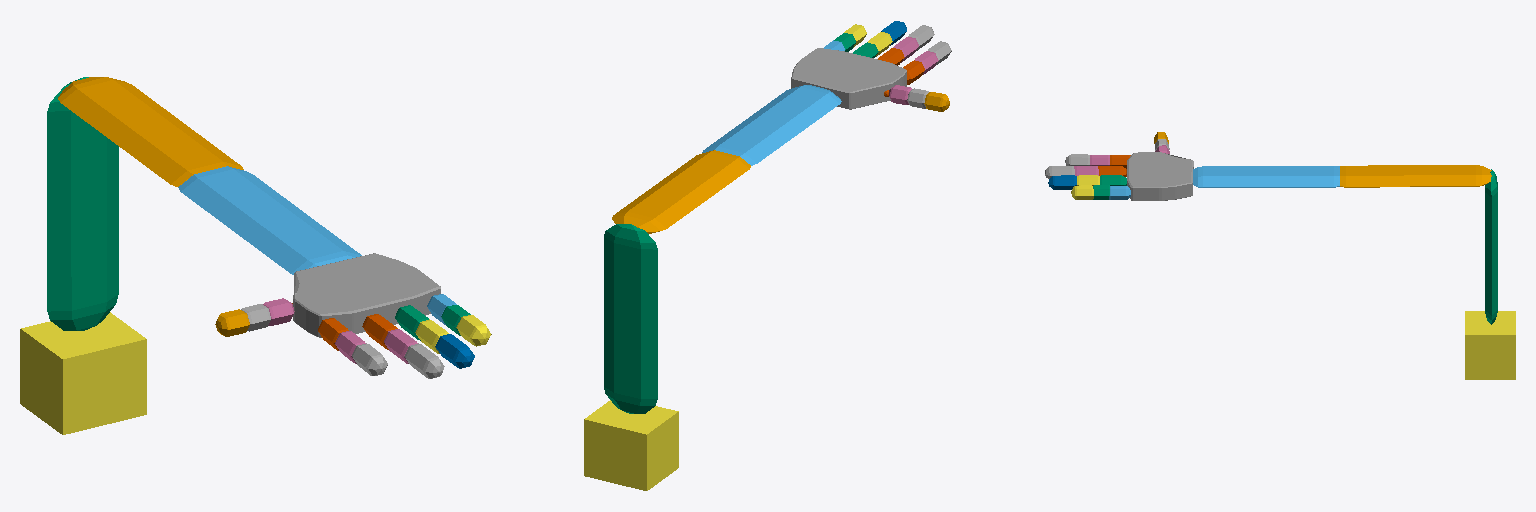
--- What the picture shows (computed from the rendered views, not written in the file) ---
The picture shows the robot from 3 angles, left to right: view 1: azimuth 30°, elevation 25°; view 2: azimuth 150°, elevation 25°; view 3: azimuth 270°, elevation 25°; orthographic projection.
Model hand with 25 links and 24 joints (24 revolute), rooted at base, posed every joint at zero.
Visible links, largest first — view 1: arm_base, base, arm0, arm1, palm, middle3, ring3, index3, little3, thumb3, middle1, middle2 (+4 smaller); view 2: arm_base, base, arm0, arm1, palm; view 3: base, arm0, arm1, palm, arm_base.
Boxes of the visible links, x1,y1,x2,y2 form: arm_base: (47,77,118,330); base: (20,312,146,434); arm0: (58,77,243,186); arm1: (178,166,361,274); palm: (293,253,440,337); middle3: (404,343,444,378); ring3: (435,334,474,368); index3: (352,343,387,375); little3: (456,315,491,346); thumb3: (215,309,249,336); middle1: (362,314,397,349); middle2: (384,329,417,363); arm_base: (604,224,657,413); base: (584,400,678,490); arm0: (612,150,750,233); arm1: (702,85,841,165); palm: (791,48,906,109); base: (1465,311,1515,379); arm0: (1340,165,1491,187); arm1: (1193,166,1339,187); palm: (1127,152,1193,200); arm_base: (1485,169,1497,324).
Size in the robot's own frame: 1.34 by 4.58 by 2.12 metres.
Meshes: 24 distinct files referenced, 24 mesh visuals loaded (24 OBJ).

The robot description file, URDF, robot "hand":
<?xml version="1.0"?>
<!-- created with Phobos 0.7 -->
  <robot name="hand">

    <link name="arm0">
      <inertial>
        <origin xyz="0.00575 0.0098 0.78821" rpy="0 0 0"/>
        <mass value="0.1"/>
        <inertia ixx="0.0872" ixy="0" ixz="0" iyy="0.001" iyz="0" izz="0.20686"/>
      </inertial>
      <visual name="visual_arm0">
        <origin xyz="0.00575 0.0098 0.78821" rpy="0 0 0"/>
        <geometry>
          <mesh filename="../meshes/obj/arm0_mesh.obj" scale="3.37757 1.0 5.67104"/>
        </geometry>
      </visual>
      <collision name="collision_arm0">
        <origin xyz="0.00575 0.0098 0.78334" rpy="0 0 0"/>
        <geometry>
          <mesh filename="../meshes/obj/arm0_mesh.obj" scale="1.0 1.0 1.60549"/>
        </geometry>
      </collision>
    </link>

    <link name="arm1">
      <inertial>
        <origin xyz="-0.00401 0.0098 0.68658" rpy="0 0 0"/>
        <mass value="0.1"/>
        <inertia ixx="0.0872" ixy="0" ixz="0" iyy="0.001" iyz="0" izz="0.20686"/>
      </inertial>
      <visual name="visual_arm1">
        <origin xyz="-0.00401 0.0098 0.68658" rpy="0 0 0"/>
        <geometry>
          <mesh filename="../meshes/obj/arm1_mesh.obj" scale="3.37757 1.0 5.67104"/>
        </geometry>
      </visual>
      <collision name="collision_arm1">
        <origin xyz="-0.00401 0.0098 0.68171" rpy="0 0 0"/>
        <geometry>
          <mesh filename="../meshes/obj/arm1_mesh.obj" scale="1.0 1.0 1.60549"/>
        </geometry>
      </collision>
    </link>

    <link name="arm_base">
      <inertial>
        <origin xyz="0.00575 0.0098 0.78821" rpy="0 0 0"/>
        <mass value="0.1"/>
        <inertia ixx="0.0872" ixy="0" ixz="0" iyy="0.001" iyz="0" izz="0.20686"/>
      </inertial>
      <visual name="visual_arm_base">
        <origin xyz="0.00575 0.0098 0.78821" rpy="0 0 0"/>
        <geometry>
          <mesh filename="../meshes/obj/arm_base_mesh.obj" scale="3.37757 1.0 5.67104"/>
        </geometry>
      </visual>
      <collision name="collision_arm_base">
        <origin xyz="0.00575 0.0098 0.78334" rpy="0 0 0"/>
        <geometry>
          <mesh filename="../meshes/obj/arm_base_mesh.obj" scale="1.0 1.0 1.60549"/>
        </geometry>
      </collision>
    </link>

    <link name="base">
      <inertial>
        <origin xyz="0.00137 0.00576 -0.00922" rpy="0 0 0"/>
        <mass value="0"/>
        <inertia ixx="0.0039" ixy="0" ixz="0" iyy="0.00453" iyz="0" izz="0.00457"/>
      </inertial>
      <visual name="base_visual">
        <origin xyz="0.00137 0.00576 -0.00922" rpy="0 0 0"/>
        <geometry>
          <box size="0.55837 0.48681 0.48115"/>
        </geometry>
      </visual>
      <collision name="base_collision">
        <origin xyz="0.00137 0.00576 -0.00922" rpy="0 0 0"/>
        <geometry>
          <mesh filename="../meshes/obj/base_mesh.obj" scale="1.0 1.0 1.0"/>
        </geometry>
      </collision>
    </link>

    <link name="index0">
      <inertial>
        <origin xyz="0 0.00067 0.00103" rpy="0 0 0"/>
        <mass value="0.1"/>
        <inertia ixx="0.03658" ixy="0" ixz="0" iyy="0.03658" iyz="0" izz="0.03658"/>
      </inertial>
      <visual name="visual_index0">
        <origin xyz="0 0.00067 0.00103" rpy="0 0 0"/>
        <geometry>
          <mesh filename="../meshes/obj/index0_mesh.obj" scale="1.0 1.0 1.0"/>
        </geometry>
      </visual>
      <collision name="collision_index0">
        <origin xyz="0 0.00067 0.00103" rpy="0 0 0"/>
        <geometry>
          <box size="0.0703 0.07139 0.07181"/>
        </geometry>
      </collision>
    </link>

    <link name="index1">
      <inertial>
        <origin xyz="0.00139 0 0.14195" rpy="0 0 0"/>
        <mass value="0.1"/>
        <inertia ixx="0.08761" ixy="0" ixz="0" iyy="0.08761" iyz="0" izz="0.03354"/>
      </inertial>
      <visual name="visual_index1">
        <origin xyz="0.00139 0 0.14195" rpy="0 0 0"/>
        <geometry>
          <mesh filename="../meshes/obj/index1_mesh.obj" scale="1.0 1.0 1.0"/>
        </geometry>
      </visual>
      <collision name="collision_index1">
        <origin xyz="0.00139 0 0.14195" rpy="0 0 0"/>
        <geometry>
          <box size="0.14118 0.12254 0.28672"/>
        </geometry>
      </collision>
    </link>

    <link name="index2">
      <inertial>
        <origin xyz="0.00032 0 0.09946" rpy="0 0 0"/>
        <mass value="0.1"/>
        <inertia ixx="0.08761" ixy="0" ixz="0" iyy="0.08761" iyz="0" izz="0.03354"/>
      </inertial>
      <visual name="visual_index2">
        <origin xyz="0.00032 0 0.09946" rpy="0 0 0"/>
        <geometry>
          <mesh filename="../meshes/obj/index2_mesh.obj" scale="1.0 1.0 1.0"/>
        </geometry>
      </visual>
      <collision name="collision_index2">
        <origin xyz="0.00032 0 0.09946" rpy="0 0 0"/>
        <geometry>
          <box size="0.14118 0.12254 0.27643"/>
        </geometry>
      </collision>
    </link>

    <link name="index3">
      <inertial>
        <origin xyz="0.00115 0 0.10044" rpy="0 0 0"/>
        <mass value="0.1"/>
        <inertia ixx="0.08761" ixy="0" ixz="0" iyy="0.08761" iyz="0" izz="0.03354"/>
      </inertial>
      <visual name="visual_index3">
        <origin xyz="0.00115 0 0.10044" rpy="0 0 0"/>
        <geometry>
          <mesh filename="../meshes/obj/index3_mesh.obj" scale="1.0 1.0 1.0"/>
        </geometry>
      </visual>
      <collision name="collision_index3">
        <origin xyz="0.00115 0 0.10044" rpy="0 0 0"/>
        <geometry>
          <box size="0.14118 0.12254 0.28086"/>
        </geometry>
      </collision>
    </link>

    <link name="little0">
      <inertial>
        <origin xyz="0 0.00231 -0.00092" rpy="0 0 0"/>
        <mass value="0.1"/>
        <inertia ixx="0.03658" ixy="0" ixz="0" iyy="0.03658" iyz="0" izz="0.03658"/>
      </inertial>
      <visual name="visual_little0">
        <origin xyz="0 0.00231 -0.00092" rpy="0 0 0"/>
        <geometry>
          <mesh filename="../meshes/obj/little0_mesh.obj" scale="1.0 1.0 1.0"/>
        </geometry>
      </visual>
      <collision name="collision_little0">
        <origin xyz="0 0.00231 -0.00092" rpy="0 0 0"/>
        <geometry>
          <box size="0.07071 0.07112 0.07181"/>
        </geometry>
      </collision>
    </link>

    <link name="little1">
      <inertial>
        <origin xyz="0.00056 0 0.12158" rpy="0 0 0"/>
        <mass value="0.1"/>
        <inertia ixx="0.08761" ixy="0" ixz="0" iyy="0.08761" iyz="0" izz="0.03354"/>
      </inertial>
      <visual name="visual_little1">
        <origin xyz="0.00056 0 0.12158" rpy="0 0 0"/>
        <geometry>
          <mesh filename="../meshes/obj/little1_mesh.obj" scale="1.0 1.0 1.0"/>
        </geometry>
      </visual>
      <collision name="collision_little1">
        <origin xyz="0.00056 0 0.12158" rpy="0 0 0"/>
        <geometry>
          <box size="0.1411 0.1246 0.26256"/>
        </geometry>
      </collision>
    </link>

    <link name="little2">
      <inertial>
        <origin xyz="-0.0035 0 0.07948" rpy="0 0 0"/>
        <mass value="0.1"/>
        <inertia ixx="0.08761" ixy="0" ixz="0" iyy="0.08761" iyz="0" izz="0.03354"/>
      </inertial>
      <visual name="visual_little2">
        <origin xyz="-0.0035 0 0.07948" rpy="0 0 0"/>
        <geometry>
          <mesh filename="../meshes/obj/little2_mesh.obj" scale="1.0 1.0 1.0"/>
        </geometry>
      </visual>
      <collision name="collision_little2">
        <origin xyz="-0.0035 0 0.07948" rpy="0 0 0"/>
        <geometry>
          <box size="0.1411 0.1246 0.25314"/>
        </geometry>
      </collision>
    </link>

    <link name="little3">
      <inertial>
        <origin xyz="-0.0029 0 0.10009" rpy="0 0 0"/>
        <mass value="0.1"/>
        <inertia ixx="0.08761" ixy="0" ixz="0" iyy="0.08761" iyz="0" izz="0.03354"/>
      </inertial>
      <visual name="visual_little3">
        <origin xyz="-0.0029 0 0.10009" rpy="0 0 0"/>
        <geometry>
          <mesh filename="../meshes/obj/little3_mesh.obj" scale="1.0 1.0 1.0"/>
        </geometry>
      </visual>
      <collision name="collision_little3">
        <origin xyz="-0.0029 0 0.10009" rpy="0 0 0"/>
        <geometry>
          <box size="0.1411 0.1246 0.2572"/>
        </geometry>
      </collision>
    </link>

    <link name="middle0">
      <inertial>
        <origin xyz="0 0.00229 1e-05" rpy="0 0 0"/>
        <mass value="0.1"/>
        <inertia ixx="0.03658" ixy="0" ixz="0" iyy="0.03658" iyz="0" izz="0.03658"/>
      </inertial>
      <visual name="visual_middle0">
        <origin xyz="0 0.00229 1e-05" rpy="0 0 0"/>
        <geometry>
          <mesh filename="../meshes/obj/middle0_mesh.obj" scale="1.0 1.0 1.0"/>
        </geometry>
      </visual>
      <collision name="collision_middle0">
        <origin xyz="0 0.00229 1e-05" rpy="0 0 0"/>
        <geometry>
          <box size="0.06979 0.0716 0.07181"/>
        </geometry>
      </collision>
    </link>

    <link name="middle1">
      <inertial>
        <origin xyz="0.00355 0 0.18008" rpy="0 0 0"/>
        <mass value="0.1"/>
        <inertia ixx="0.08761" ixy="0" ixz="0" iyy="0.08761" iyz="0" izz="0.03354"/>
      </inertial>
      <visual name="visual_middle1">
        <origin xyz="0.00355 0 0.18008" rpy="0 0 0"/>
        <geometry>
          <mesh filename="../meshes/obj/middle1_mesh.obj" scale="1.0 1.0 1.0"/>
        </geometry>
      </visual>
      <collision name="collision_middle1">
        <origin xyz="0.00355 0 0.18008" rpy="0 0 0"/>
        <geometry>
          <box size="0.14113 0.12421 0.3451"/>
        </geometry>
      </collision>
    </link>

    <link name="middle2">
      <inertial>
        <origin xyz="-0.00181 0 0.1154" rpy="0 0 0"/>
        <mass value="0.1"/>
        <inertia ixx="0.08761" ixy="0" ixz="0" iyy="0.08761" iyz="0" izz="0.03354"/>
      </inertial>
      <visual name="visual_middle2">
        <origin xyz="-0.00181 0 0.1154" rpy="0 0 0"/>
        <geometry>
          <mesh filename="../meshes/obj/middle2_mesh.obj" scale="1.0 1.0 1.0"/>
        </geometry>
      </visual>
      <collision name="collision_middle2">
        <origin xyz="-0.00181 0 0.1154" rpy="0 0 0"/>
        <geometry>
          <box size="0.14113 0.12421 0.33272"/>
        </geometry>
      </collision>
    </link>

    <link name="middle3">
      <inertial>
        <origin xyz="-0.00957 0 0.12562" rpy="0 0 0"/>
        <mass value="0.1"/>
        <inertia ixx="0.08761" ixy="0" ixz="0" iyy="0.08761" iyz="0" izz="0.03354"/>
      </inertial>
      <visual name="visual_middle3">
        <origin xyz="-0.00957 0 0.12562" rpy="0 0 0"/>
        <geometry>
          <mesh filename="../meshes/obj/middle3_mesh.obj" scale="1.0 1.0 1.0"/>
        </geometry>
      </visual>
      <collision name="collision_middle3">
        <origin xyz="-0.00957 0 0.12562" rpy="0 0 0"/>
        <geometry>
          <box size="0.14113 0.12421 0.33806"/>
        </geometry>
      </collision>
    </link>

    <link name="palm">
      <inertial>
        <origin xyz="-0.02337 0.00552 0.35053" rpy="0 0 0"/>
        <mass value="0.1"/>
        <inertia ixx="0.5848" ixy="0.00688" ixz="-0.02387" iyy="1.3842" iyz="0.00057" izz="0.86652"/>
      </inertial>
      <visual name="visual_palm">
        <origin xyz="-0.02489 0.00224 0.3494" rpy="0 0 0"/>
        <geometry>
          <mesh filename="../meshes/obj/palm_mesh.obj" scale="1.0 1.0 1.0"/>
        </geometry>
        <material name="Material"/>
      </visual>
      <collision name="collision_palm">
        <origin xyz="-0.0236 0.00224 0.35176" rpy="0 0 0"/>
        <geometry>
          <box size="0.82991 0.15132 0.65196"/>
        </geometry>
      </collision>
    </link>

    <link name="ring0">
      <inertial>
        <origin xyz="0 0.00229 1e-05" rpy="0 0 0"/>
        <mass value="0.1"/>
        <inertia ixx="0.03658" ixy="0" ixz="0" iyy="0.03658" iyz="0" izz="0.03658"/>
      </inertial>
      <visual name="visual_ring0">
        <origin xyz="0 0.00229 1e-05" rpy="0 0 0"/>
        <geometry>
          <mesh filename="../meshes/obj/ring0_mesh.obj" scale="1.0 1.0 1.0"/>
        </geometry>
      </visual>
      <collision name="collision_ring0">
        <origin xyz="0 0.00229 1e-05" rpy="0 0 0"/>
        <geometry>
          <box size="0.06979 0.0716 0.07181"/>
        </geometry>
      </collision>
    </link>

    <link name="ring1">
      <inertial>
        <origin xyz="0.00105 0 0.15453" rpy="0 0 0"/>
        <mass value="0.1"/>
        <inertia ixx="0.08761" ixy="0" ixz="0" iyy="0.08761" iyz="0" izz="0.03354"/>
      </inertial>
      <visual name="visual_ring1">
        <origin xyz="0.00105 0 0.15453" rpy="0 0 0"/>
        <geometry>
          <mesh filename="../meshes/obj/ring1_mesh.obj" scale="1.0 1.0 1.0"/>
        </geometry>
      </visual>
      <collision name="collision_ring1">
        <origin xyz="0.00105 0 0.15453" rpy="0 0 0"/>
        <geometry>
          <box size="0.14113 0.12421 0.33299"/>
        </geometry>
      </collision>
    </link>

    <link name="ring2">
      <inertial>
        <origin xyz="-0.00181 0 0.11135" rpy="0 0 0"/>
        <mass value="0.1"/>
        <inertia ixx="0.08761" ixy="0" ixz="0" iyy="0.08761" iyz="0" izz="0.03354"/>
      </inertial>
      <visual name="visual__ring2">
        <origin xyz="-0.00181 0 0.11135" rpy="0 0 0"/>
        <geometry>
          <mesh filename="../meshes/obj/ring2_mesh.obj" scale="1.0 1.0 1.0"/>
        </geometry>
      </visual>
      <collision name="collision__ring2">
        <origin xyz="-0.00181 0 0.11135" rpy="0 0 0"/>
        <geometry>
          <box size="0.14113 0.12421 0.32105"/>
        </geometry>
      </collision>
    </link>

    <link name="ring3">
      <inertial>
        <origin xyz="-0.00957 0 0.12121" rpy="0 0 0"/>
        <mass value="0.1"/>
        <inertia ixx="0.08761" ixy="0" ixz="0" iyy="0.08761" iyz="0" izz="0.03354"/>
      </inertial>
      <visual name="visual_ring3">
        <origin xyz="-0.00957 0 0.12121" rpy="0 0 0"/>
        <geometry>
          <mesh filename="../meshes/obj/ring3_mesh.obj" scale="1.0 1.0 1.0"/>
        </geometry>
      </visual>
      <collision name="collision__ring3">
        <origin xyz="-0.00957 0 0.12121" rpy="0 0 0"/>
        <geometry>
          <box size="0.14113 0.12421 0.3262"/>
        </geometry>
      </collision>
    </link>

    <link name="thumb0">
      <inertial>
        <origin xyz="-0.0002 -0.00056 8e-05" rpy="0 0 0"/>
        <mass value="0.1"/>
        <inertia ixx="0.03658" ixy="0" ixz="0" iyy="0.03658" iyz="0" izz="0.03658"/>
      </inertial>
      <visual name="visual_thumb0">
        <origin xyz="-0.0002 -0.00056 8e-05" rpy="0 0 0"/>
        <geometry>
          <mesh filename="../meshes/obj/thumb0_mesh.obj" scale="1.0 1.0 1.0"/>
        </geometry>
      </visual>
      <collision name="collision_thumb0">
        <origin xyz="-0.0002 -0.00056 8e-05" rpy="0 0 0"/>
        <geometry>
          <box size="0.07171 0.07151 0.06987"/>
        </geometry>
      </collision>
    </link>

    <link name="thumb1">
      <inertial>
        <origin xyz="-0.10141 0.00337 0.00732" rpy="0 0 0"/>
        <mass value="0.1"/>
        <inertia ixx="0.08761" ixy="0" ixz="0" iyy="0.08761" iyz="0" izz="0.03354"/>
      </inertial>
      <visual name="visual_thumb1">
        <origin xyz="-0.10141 0.00337 0.00732" rpy="0 0 0"/>
        <geometry>
          <mesh filename="../meshes/obj/thumb1_mesh.obj" scale="1.0 1.0 1.0"/>
        </geometry>
      </visual>
      <collision name="collision_thumb1">
        <origin xyz="-0.10141 0.00337 0.00732" rpy="0 0 0"/>
        <geometry>
          <box size="0.21098 0.12737 0.14617"/>
        </geometry>
      </collision>
    </link>

    <link name="thumb2">
      <inertial>
        <origin xyz="-0.07785 0.00265 0.00842" rpy="0 0 0"/>
        <mass value="0.1"/>
        <inertia ixx="0.08761" ixy="0" ixz="0" iyy="0.08761" iyz="0" izz="0.03354"/>
      </inertial>
      <visual name="visual_thumb2">
        <origin xyz="-0.07785 0.00265 0.00842" rpy="0 0 0"/>
        <geometry>
          <mesh filename="../meshes/obj/thumb2_mesh.obj" scale="1.0 1.0 1.0"/>
        </geometry>
      </visual>
      <collision name="collision_thumb2">
        <origin xyz="-0.07785 0.00265 0.00842" rpy="0 0 0"/>
        <geometry>
          <box size="0.20341 0.12723 0.14599"/>
        </geometry>
      </collision>
    </link>

    <link name="thumb3">
      <inertial>
        <origin xyz="-0.07916 0.00252 0.00105" rpy="0 0 0"/>
        <mass value="0.1"/>
        <inertia ixx="0.08761" ixy="0" ixz="0" iyy="0.08761" iyz="0" izz="0.03354"/>
      </inertial>
      <visual name="visual_thumb3">
        <origin xyz="-0.07916 0.00252 0.00105" rpy="0 0 0"/>
        <geometry>
          <mesh filename="../meshes/obj/thumb3_mesh.obj" scale="1.0 1.0 1.0"/>
        </geometry>
      </visual>
      <collision name="collision_thumb3">
        <origin xyz="-0.07916 0.00252 0.00105" rpy="0 0 0"/>
        <geometry>
          <box size="0.20779 0.12731 0.14609"/>
        </geometry>
      </collision>
    </link>

    <joint name="arm0" type="revolute">
      <origin xyz="0.00139 0.02077 1.53803" rpy="1.57582 0.00091 -0.0009"/>
      <parent link="arm_base"/>
      <child link="arm0"/>
      <axis xyz="0.99993 0 -0.01224"/>
      <limit lower="-3.14" upper="3.14" effort="300.0" velocity="1.0"/>
    </joint>

    <joint name="arm1" type="revolute">
      <origin xyz="0.01101 0 1.48559" rpy="0 0 0"/>
      <parent link="arm0"/>
      <child link="arm1"/>
      <axis xyz="0.99999 0 -0.00502"/>
      <limit lower="-3.14" upper="3.14" effort="300.0" velocity="1.0"/>
    </joint>

    <joint name="arm_base" type="revolute">
      <origin xyz="-0.00266 0.00425 0.26499" rpy="0.00038 -0.0009 0"/>
      <parent link="base"/>
      <child link="arm_base"/>
      <axis xyz="-0.00483 0.00039 0.99999"/>
      <limit lower="-3.14" upper="3.14" effort="300.0" velocity="1.0"/>
    </joint>

    <joint name="index0" type="revolute">
      <origin xyz="-0.39131 -0.00128 0.59296" rpy="0 -0.026 0"/>
      <parent link="palm"/>
      <child link="index0"/>
      <axis xyz="0 -0.99997 0.00709"/>
      <limit lower="-3.14" upper="3.14" effort="300.0" velocity="1.0"/>
    </joint>

    <joint name="index1" type="revolute">
      <origin xyz="0.0001 -0.00253 -0.01509" rpy="0 0 0"/>
      <parent link="index0"/>
      <child link="index1"/>
      <axis xyz="0.99997 0 0.00733"/>
      <limit lower="-3.14" upper="3.14" effort="300.0" velocity="1.0"/>
    </joint>

    <joint name="index2" type="revolute">
      <origin xyz="0.00339 0.00133 0.24319" rpy="0 0 0"/>
      <parent link="index1"/>
      <child link="index2"/>
      <axis xyz="0.99999 0 0.0048"/>
      <limit lower="-3.14" upper="3.14" effort="300.0" velocity="1.0"/>
    </joint>

    <joint name="index3" type="revolute">
      <origin xyz="0.00233 0.00181 0.19844" rpy="0 0 0"/>
      <parent link="index2"/>
      <child link="index3"/>
      <axis xyz="0.99993 0 -0.01203"/>
      <limit lower="-3.14" upper="3.14" effort="300.0" velocity="1.0"/>
    </joint>

    <joint name="little0" type="revolute">
      <origin xyz="0.3165 -0.00289 0.61751" rpy="0 0 0"/>
      <parent link="palm"/>
      <child link="little0"/>
      <axis xyz="0 -0.99999 0.00543"/>
      <limit lower="-3.14" upper="3.14" effort="300.0" velocity="1.0"/>
    </joint>

    <joint name="little1" type="revolute">
      <origin xyz="3e-05 -0.00086 0.00323" rpy="0 0 0"/>
      <parent link="little0"/>
      <child link="little1"/>
      <axis xyz="0.99988 0 -0.01517"/>
      <limit lower="-3.14" upper="3.14" effort="300.0" velocity="1.0"/>
    </joint>

    <joint name="little2" type="revolute">
      <origin xyz="0.00225 0.00126 0.20289" rpy="0 0 0"/>
      <parent link="little1"/>
      <child link="little2"/>
      <axis xyz="0.99976 0 0.02175"/>
      <limit lower="-3.14" upper="3.14" effort="300.0" velocity="1.0"/>
    </joint>

    <joint name="little3" type="revolute">
      <origin xyz="0.00261 0.00171 0.14934" rpy="0 0 0"/>
      <parent link="little2"/>
      <child link="little3"/>
      <axis xyz="0.9998 0 0.02006"/>
      <limit lower="-3.14" upper="3.14" effort="300.0" velocity="1.0"/>
    </joint>

    <joint name="middle0" type="revolute">
      <origin xyz="-0.14136 -0.00293 0.63492" rpy="0 0 0"/>
      <parent link="palm"/>
      <child link="middle0"/>
      <axis xyz="0 -1.0 -0.00025"/>
      <limit lower="-3.14" upper="3.14" effort="300.0" velocity="1.0"/>
    </joint>

    <joint name="middle1" type="revolute">
      <origin xyz="-0.00235 -0.00096 0.00774" rpy="0 0 0"/>
      <parent link="middle0"/>
      <child link="middle1"/>
      <axis xyz="0.99992 0 -0.01259"/>
      <limit lower="-3.14" upper="3.14" effort="300.0" velocity="1.0"/>
    </joint>

    <joint name="middle2" type="revolute">
      <origin xyz="0.00765 0.0014 0.29592" rpy="0 0 0"/>
      <parent link="middle1"/>
      <child link="middle2"/>
      <axis xyz="0.99981 0 -0.01974"/>
      <limit lower="-3.14" upper="3.14" effort="300.0" velocity="1.0"/>
    </joint>

    <joint name="middle3" type="revolute">
      <origin xyz="0.01086 0.00191 0.22772" rpy="0 0 0"/>
      <parent link="middle2"/>
      <child link="middle3"/>
      <axis xyz="0.99891 0 -0.04675"/>
      <limit lower="-3.14" upper="3.14" effort="300.0" velocity="1.0"/>
    </joint>

    <joint name="palm" type="revolute">
      <origin xyz="-0.01412 -0.00489 1.41271" rpy="0 0.0007 0"/>
      <parent link="arm1"/>
      <child link="palm"/>
      <axis xyz="0.99795 -0.06295 0.01168"/>
      <limit lower="-3.14" upper="3.14" effort="300.0" velocity="1.0"/>
    </joint>

    <joint name="ring0" type="revolute">
      <origin xyz="0.08147 -0.00293 0.64689" rpy="0 0 0"/>
      <parent link="palm"/>
      <child link="ring0"/>
      <axis xyz="0 -1.0 -0.00025"/>
      <limit lower="-3.14" upper="3.14" effort="300.0" velocity="1.0"/>
    </joint>

    <joint name="ring1" type="revolute">
      <origin xyz="-0.00235 -0.00096 0.00774" rpy="0 0 0"/>
      <parent link="ring0"/>
      <child link="ring1"/>
      <axis xyz="0.99992 0 -0.01259"/>
      <limit lower="-3.14" upper="3.14" effort="300.0" velocity="1.0"/>
    </joint>

    <joint name="ring2" type="revolute">
      <origin xyz="0.00514 0.0014 0.26631" rpy="0 0 0"/>
      <parent link="ring1"/>
      <child link="ring2"/>
      <axis xyz="0.99982 0 -0.01904"/>
      <limit lower="-3.14" upper="3.14" effort="300.0" velocity="1.0"/>
    </joint>

    <joint name="ring3" type="revolute">
      <origin xyz="0.01086 0.00191 0.21972" rpy="0 0 0"/>
      <parent link="ring2"/>
      <child link="ring3"/>
      <axis xyz="0.99898 0 -0.04511"/>
      <limit lower="-3.14" upper="3.14" effort="300.0" velocity="1.0"/>
    </joint>

    <joint name="thumb0" type="revolute">
      <origin xyz="-0.41455 -0.00202 0.3021" rpy="0 0 0"/>
      <parent link="palm"/>
      <child link="thumb0"/>
      <axis xyz="0.08899 0.99379 0.06681"/>
      <limit lower="-3.14" upper="3.14" effort="300.0" velocity="1.0"/>
    </joint>

    <joint name="thumb1" type="revolute">
      <origin xyz="-0.03203 0.00364 -0.00016" rpy="0 0 0"/>
      <parent link="thumb0"/>
      <child link="thumb1"/>
      <axis xyz="-0.02687 -0.02285 -0.99938"/>
      <limit lower="-3.14" upper="3.14" effort="300.0" velocity="1.0"/>
    </joint>

    <joint name="thumb2" type="revolute">
      <origin xyz="-0.17578 0.00434 0.00565" rpy="0 0 0"/>
      <parent link="thumb1"/>
      <child link="thumb2"/>
      <axis xyz="-0.06485 -0.02161 -0.99766"/>
      <limit lower="-3.14" upper="3.14" effort="300.0" velocity="1.0"/>
    </joint>

    <joint name="thumb3" type="revolute">
      <origin xyz="-0.14642 0.00318 0.01587" rpy="0 0 0"/>
      <parent link="thumb2"/>
      <child link="thumb3"/>
      <axis xyz="-0.01701 -0.02316 -0.99959"/>
      <limit lower="-3.14" upper="3.14" effort="300.0" velocity="1.0"/>
    </joint>

    <material name="Material">
      <color rgba="0.64 0.64 0.64 1.0"/>
    </material>

  </robot>
